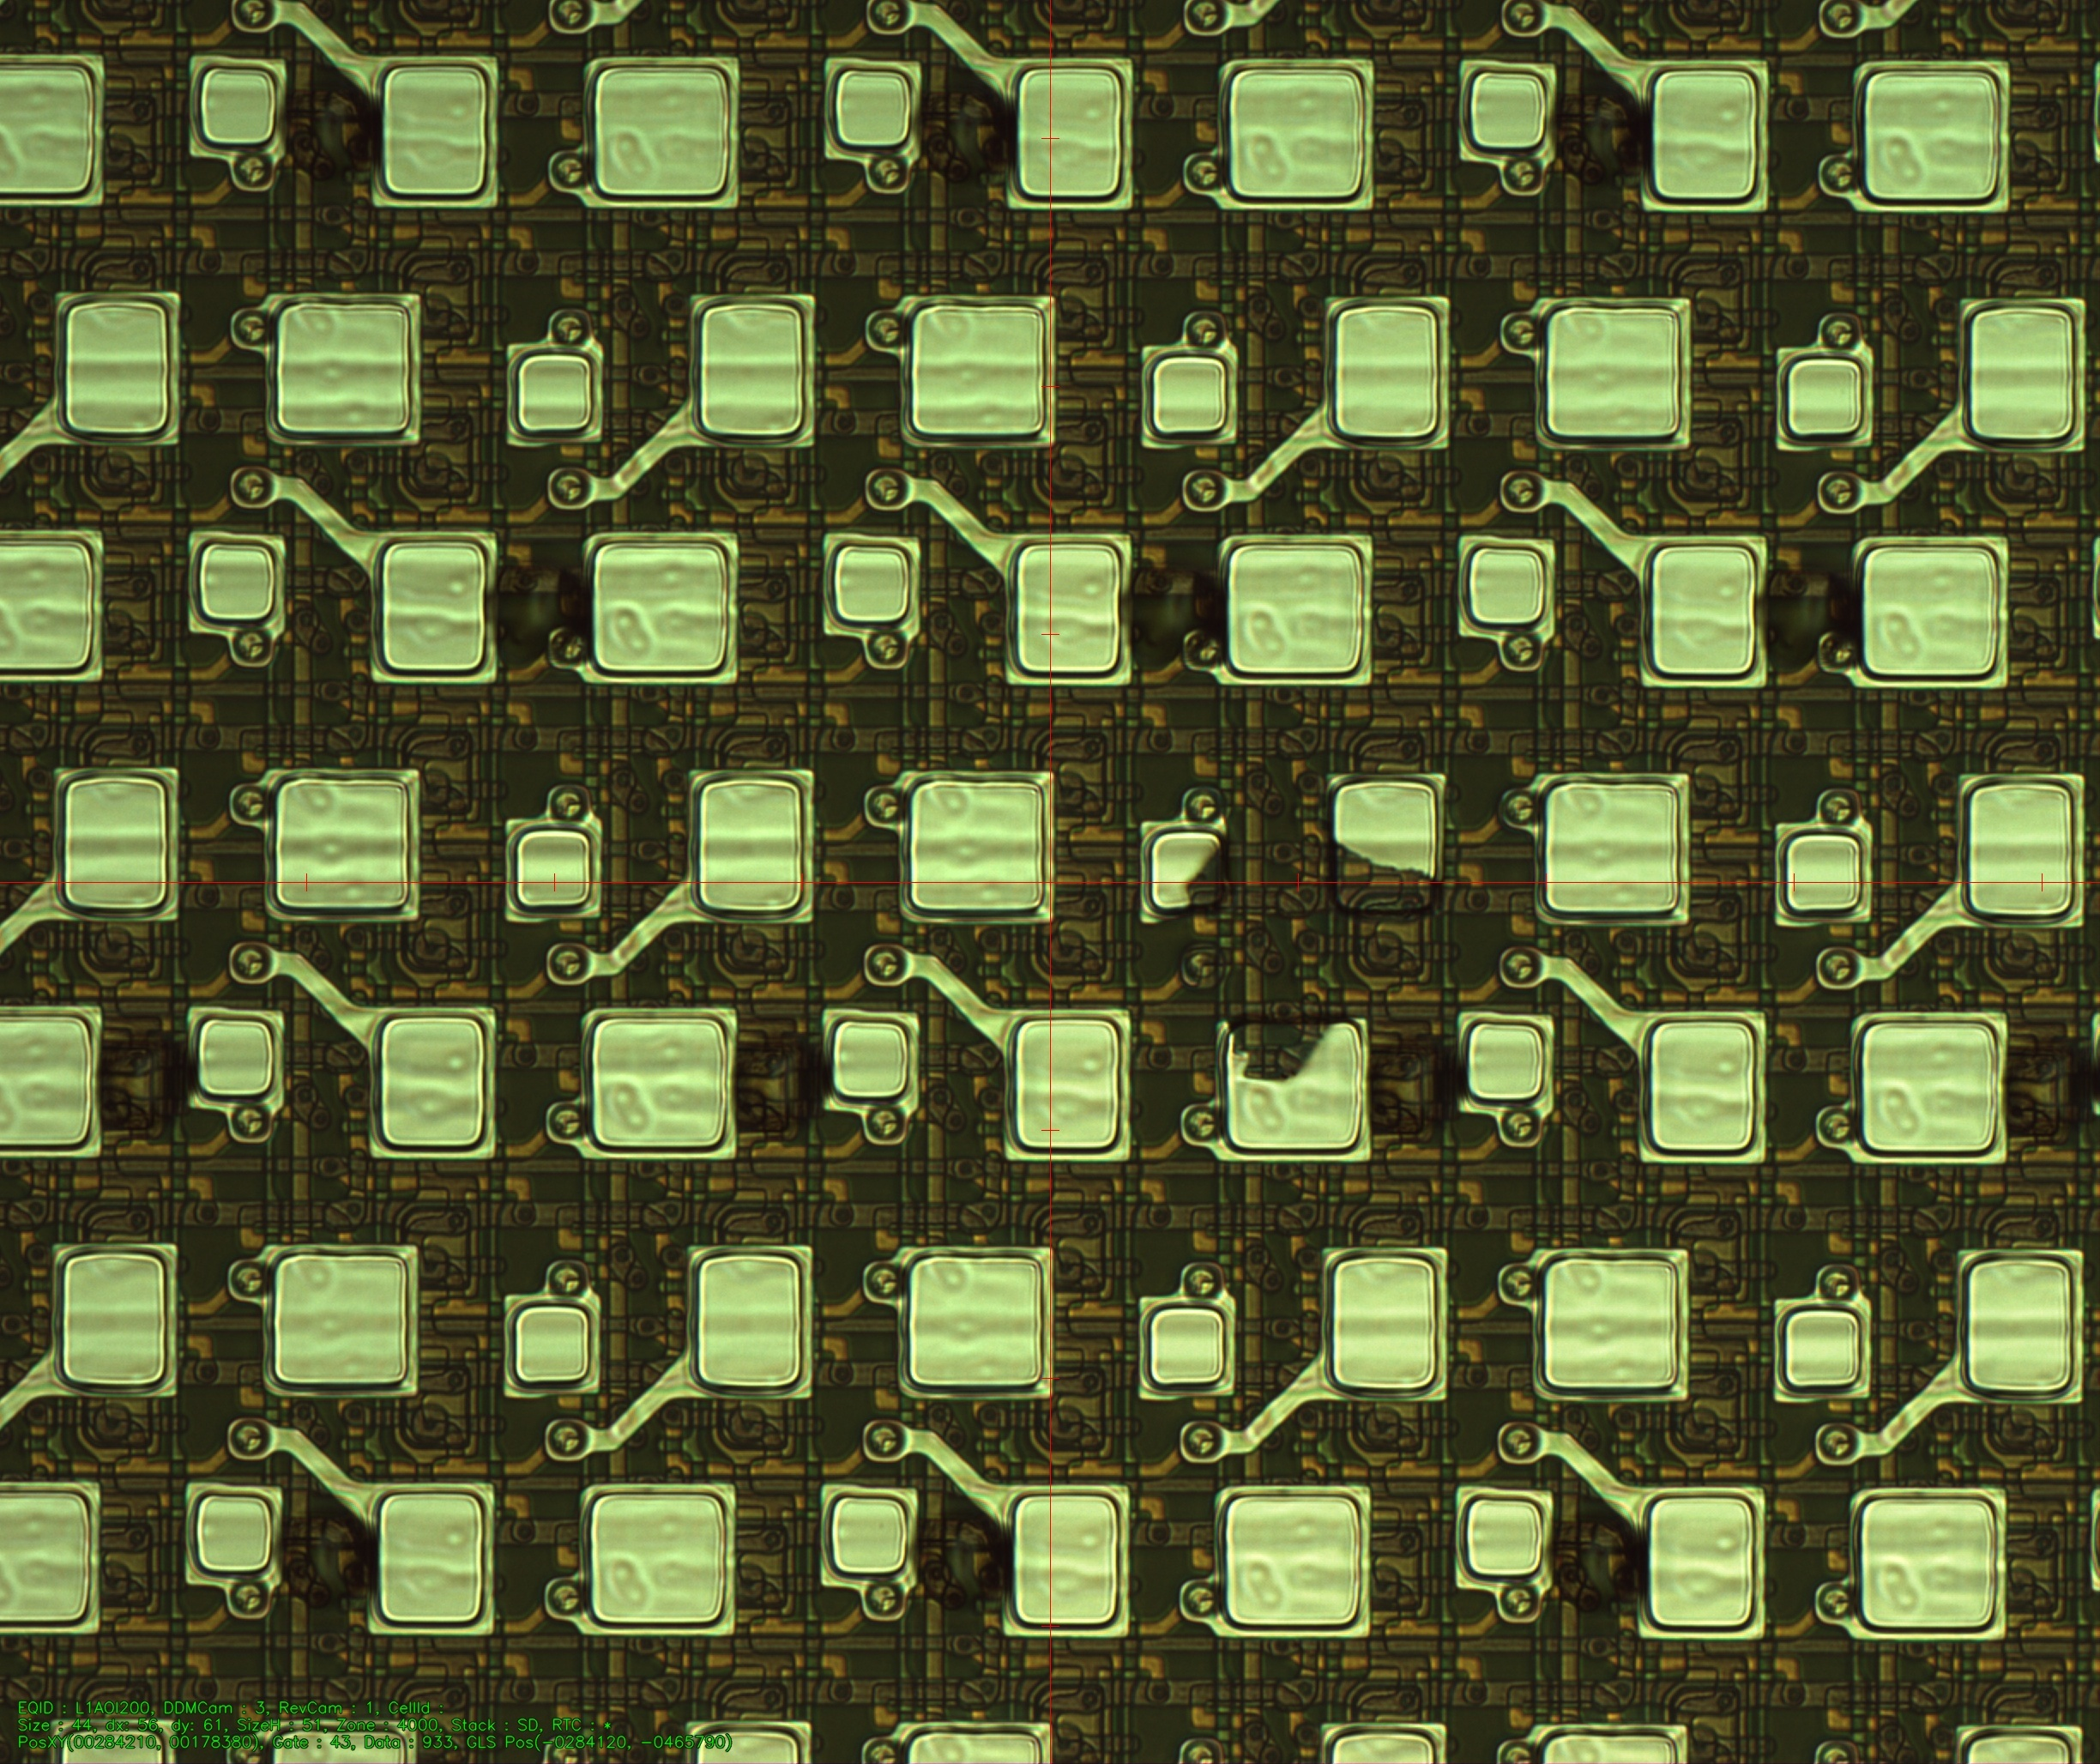RES04: (1183, 784, 1421, 1118)
